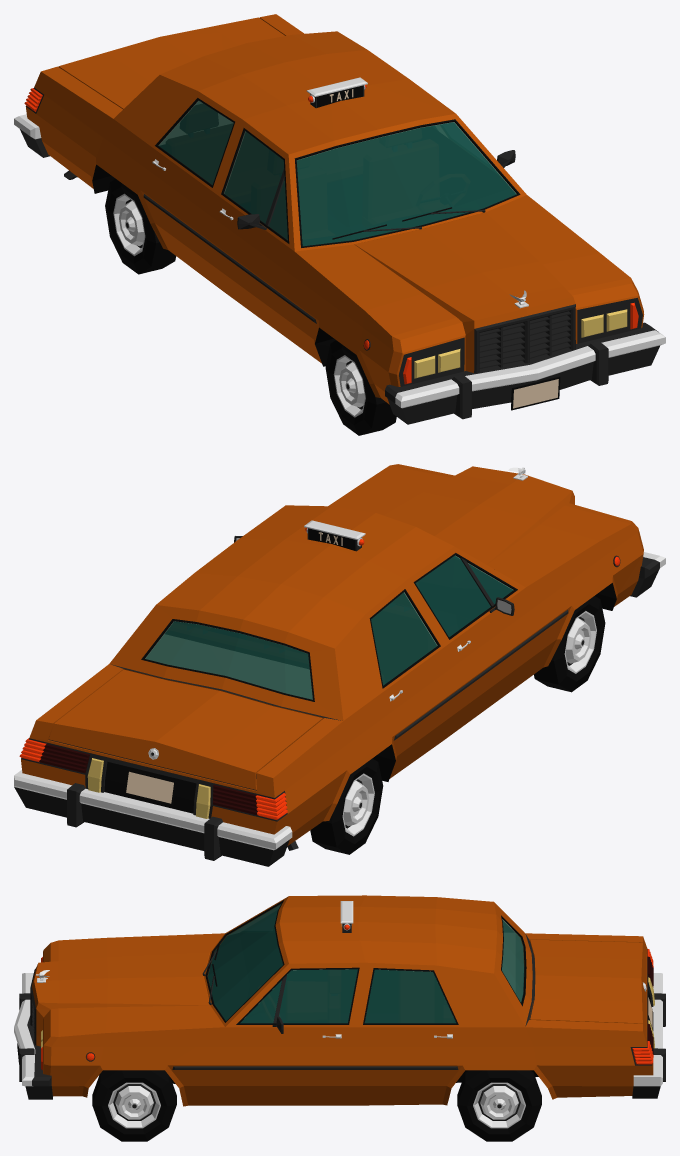
The model's file is Taxi_02.FBX.
3 renders of one model, top to bottom at view 1: azimuth 30°, elevation 25°; view 2: azimuth 150°, elevation 25°; view 3: azimuth 270°, elevation 25°, orthographic. The views are drawn at different scales.
Visible parts, largest first — view 1: Taxi_02, interior, bumper_f, wheel_f_r, wheel_b_r, grill, headLights, licensePlate_f, taxiSign, bumper_b; view 2: Taxi_02, interior, bumper_b, wheel_b_r, wheel_f_r, tailLights, licensePlate_b, taxiSign, backupLights, bumper_f, indicatorLights_r; view 3: Taxi_02, interior, wheel_b_l, wheel_f_l, bumper_f, bumper_b, indicatorLights_l, taxiSign.
Part boxes in pixels (left/top/right/bottom): Taxi_02: left=25, top=14, right=644, bottom=404; interior: left=158, top=101, right=516, bottom=245; bumper_f: left=385, top=322, right=665, bottom=424; wheel_f_r: left=325, top=340, right=396, bottom=435; wheel_b_r: left=105, top=179, right=176, bottom=274; grill: left=479, top=311, right=570, bottom=368; headLights: left=414, top=309, right=627, bottom=378; licensePlate_f: left=511, top=376, right=560, bottom=410; taxiSign: left=306, top=77, right=367, bottom=108; bumper_b: left=14, top=114, right=49, bottom=157; Taxi_02: left=21, top=464, right=643, bottom=845; interior: left=145, top=555, right=512, bottom=699; bumper_b: left=14, top=770, right=292, bottom=866; wheel_b_r: left=310, top=758, right=383, bottom=854; wheel_f_r: left=534, top=596, right=605, bottom=692; tailLights: left=39, top=744, right=257, bottom=815; licensePlate_b: left=124, top=769, right=176, bottom=805; taxiSign: left=304, top=520, right=365, bottom=551; backupLights: left=87, top=758, right=210, bottom=818; bumper_f: left=630, top=552, right=665, bottom=597; indicatorLights_r: left=255, top=556, right=619, bottom=819; Taxi_02: left=30, top=895, right=653, bottom=1106; interior: left=208, top=905, right=523, bottom=1022; wheel_b_l: left=457, top=1070, right=541, bottom=1141; wheel_f_l: left=92, top=1070, right=176, bottom=1141; bumper_f: left=14, top=973, right=52, bottom=1099; bumper_b: left=632, top=973, right=665, bottom=1098; indicatorLights_l: left=41, top=1041, right=653, bottom=1070; taxiSign: left=340, top=901, right=353, bottom=932.
Bounding box in the file's own units: 26.94 × 20.61 × 66.12.
